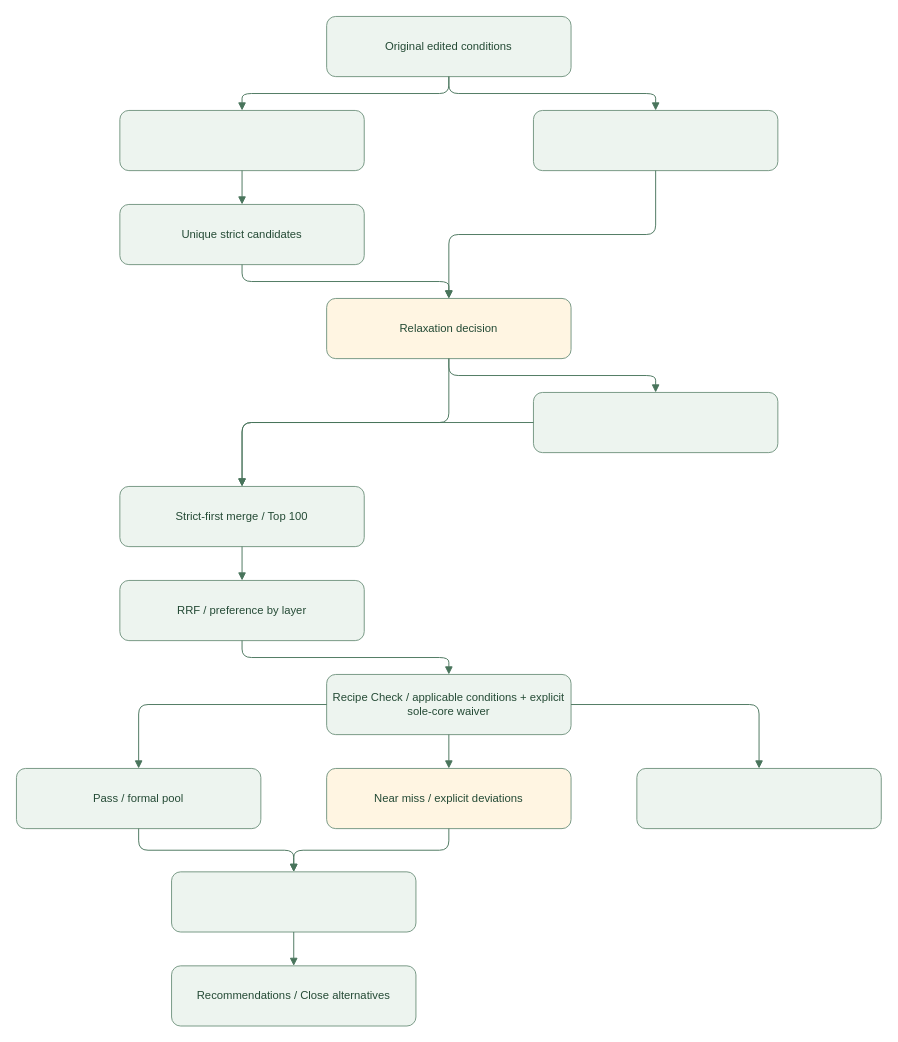
Image size: 898x1042. Some labels were removed from this diagram. The shapes that lost their labels are listed below. From the top down, each one's box as (x1, y1, x2, y2) in pixels, then its label:
(119, 110, 364, 171): Strict BM25 + Vector
(533, 110, 778, 171): Filter-range statistics
(533, 392, 778, 453): Relaxed BM25 + Vector / separate time and count per branch
(636, 768, 881, 829): Fail / unknown / not checked
(171, 871, 416, 932): Summary: separate input groups
